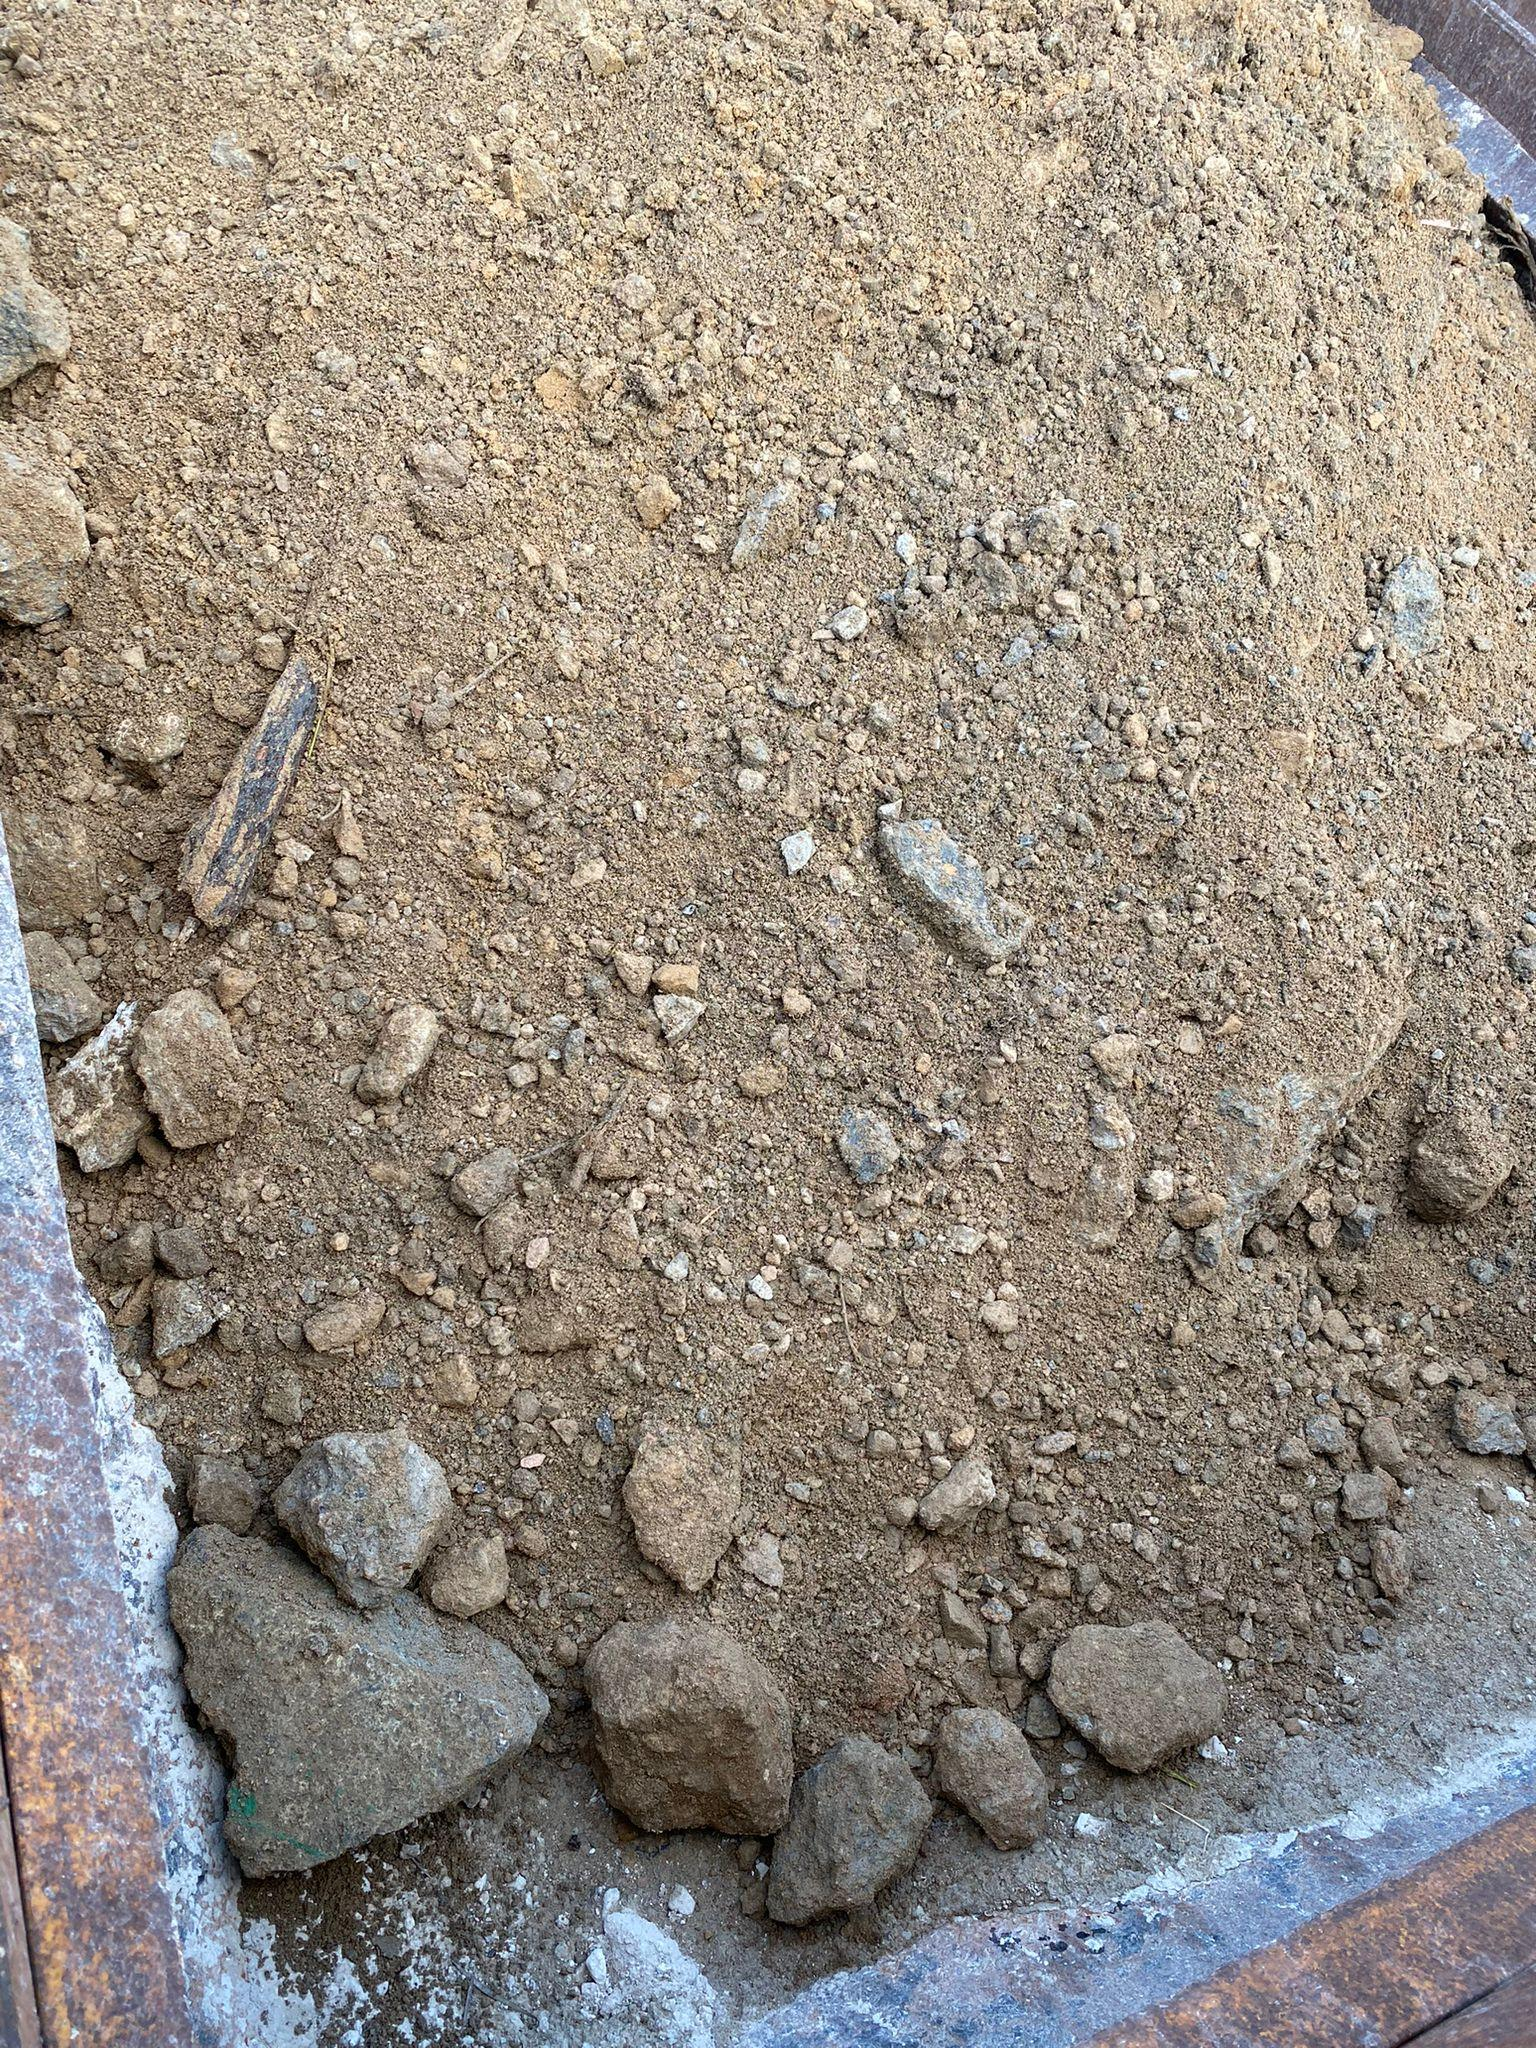dirt: (2, 2, 1533, 2042)
stone: (165, 1521, 550, 1879), (581, 1614, 795, 1837), (174, 653, 319, 926), (269, 1426, 457, 1609), (763, 1732, 933, 1927), (1044, 1617, 1229, 1774), (876, 813, 1033, 963), (620, 1422, 742, 1592), (131, 987, 248, 1148), (45, 1000, 150, 1172), (931, 1703, 1049, 1850), (1404, 1105, 1517, 1218), (355, 1003, 439, 1101)
